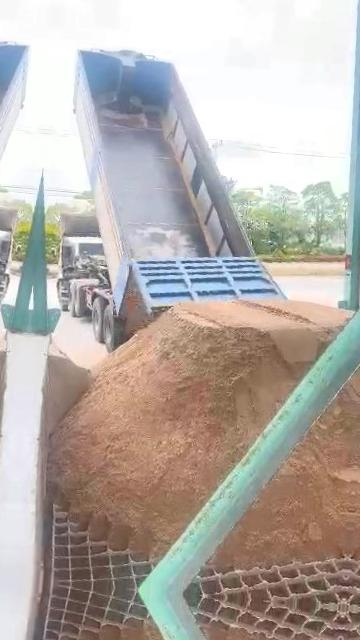sand: (49, 302, 348, 555), (215, 364, 360, 567), (41, 341, 90, 449)
